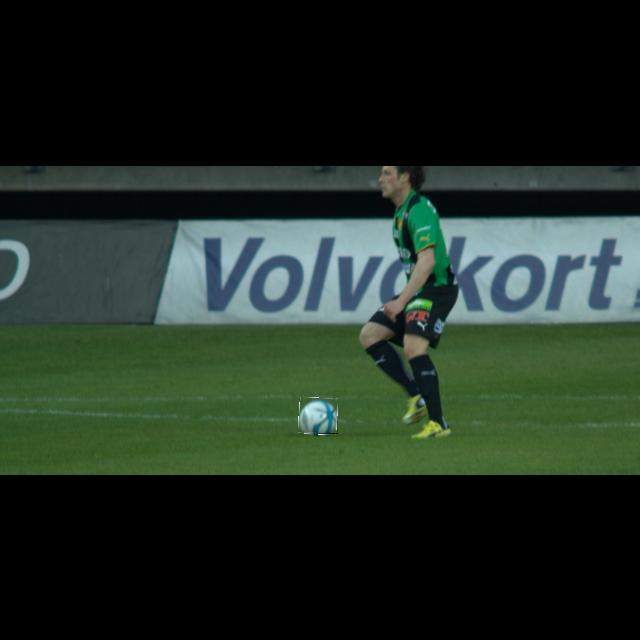Football: (298, 398, 338, 434)
